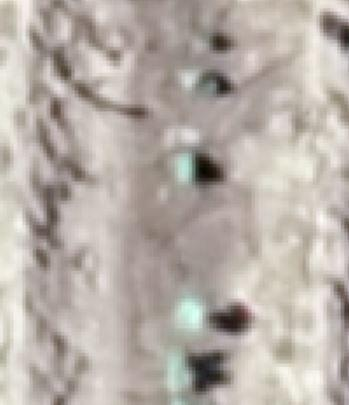cotton: (177, 297, 204, 328), (170, 356, 189, 387), (179, 154, 195, 180)
